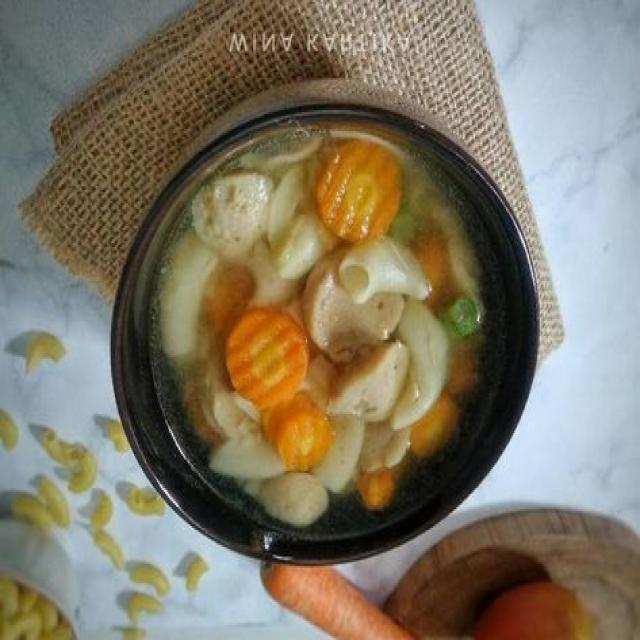sop: (146, 125, 490, 528)
